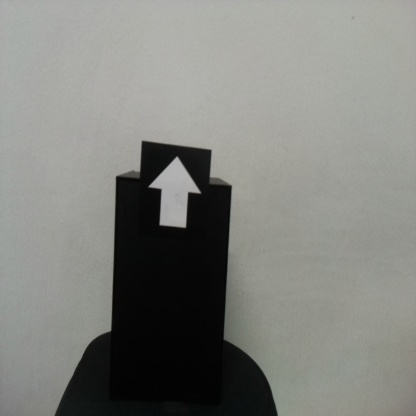id_1: (142, 146, 211, 250)
